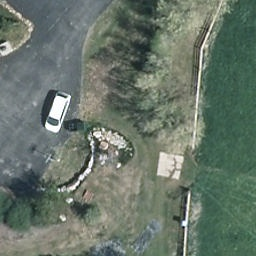car: (41, 91, 77, 134)
